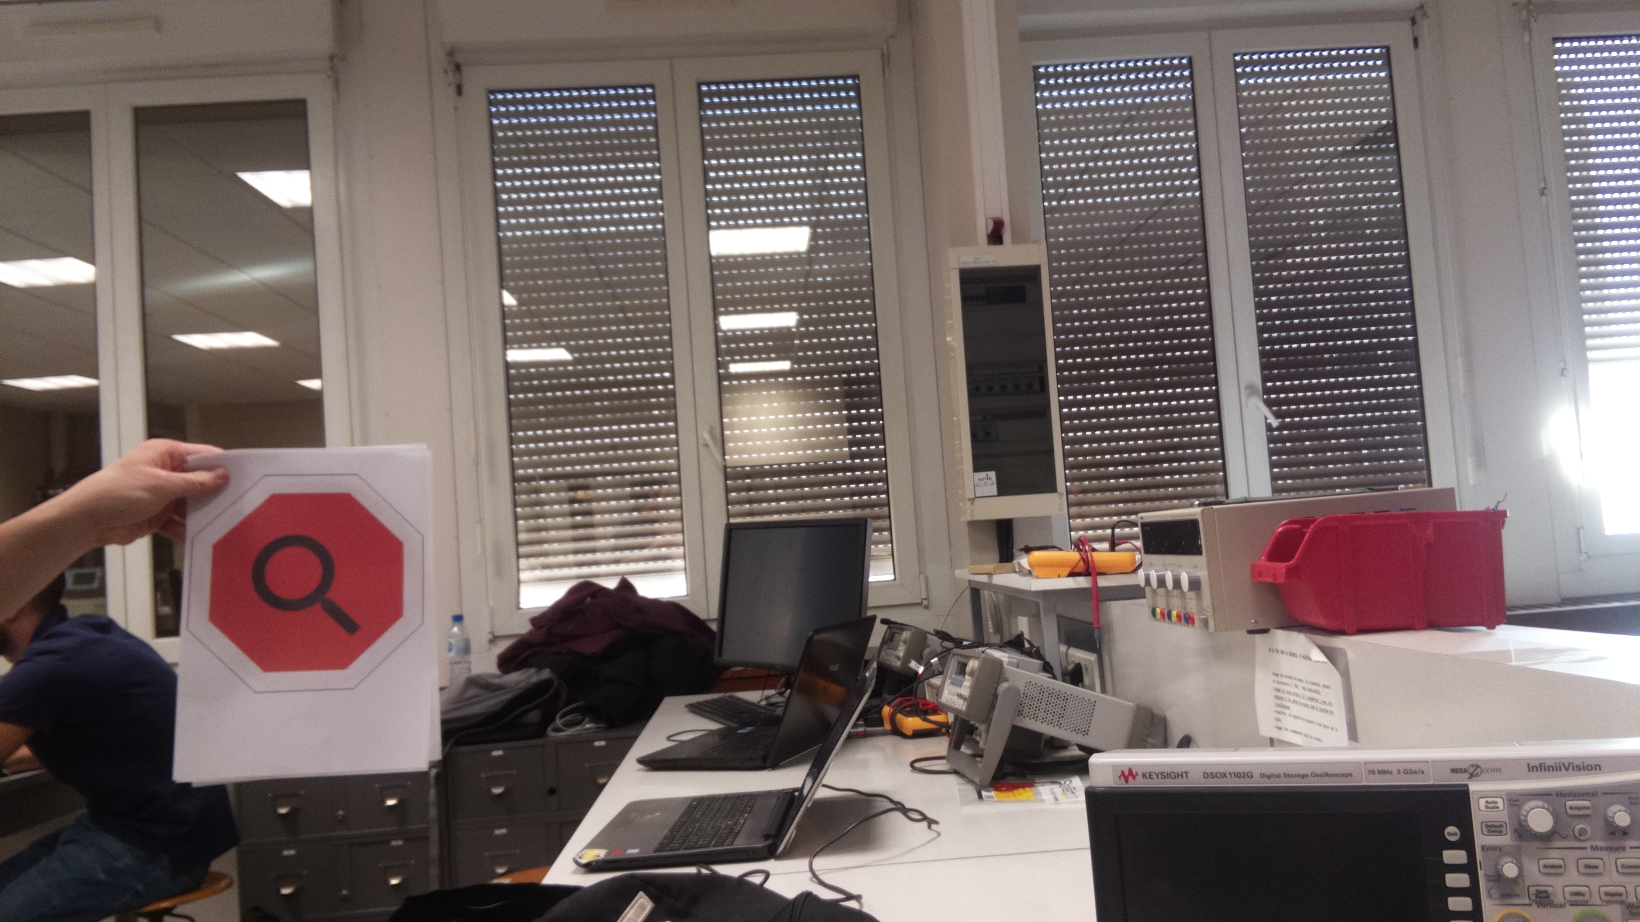search: (194, 472, 425, 690)
